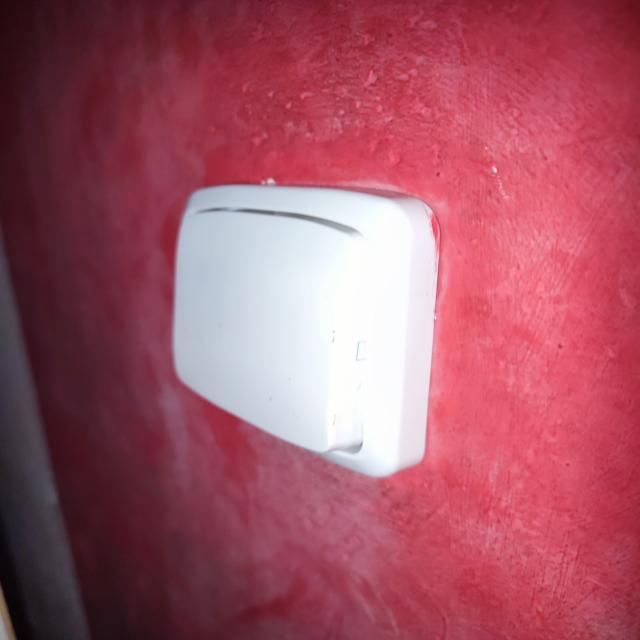house switch: (173, 185, 441, 476)
